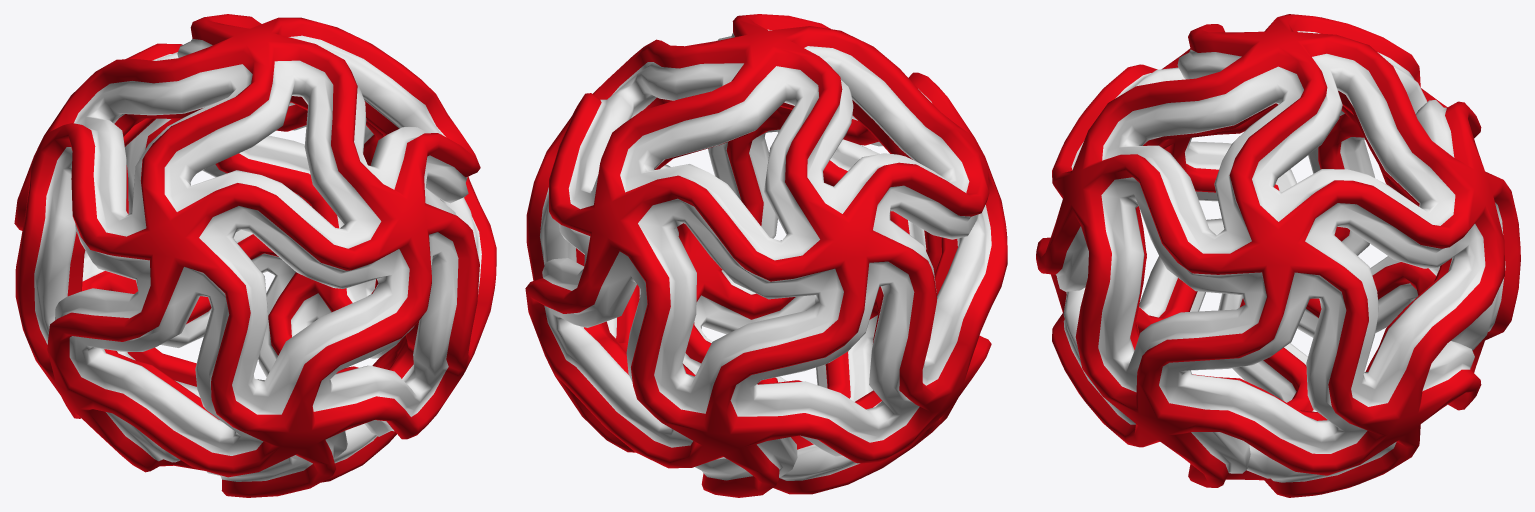
Rendered from Star Ball_new_01.fbx.
The picture shows the model from 3 angles, left to right: view 1: azimuth 30°, elevation 25°; view 2: azimuth 150°, elevation 25°; view 3: azimuth 270°, elevation 25°; orthographic projection.
Visible parts, largest first — view 1: Icosphere; view 2: Icosphere; view 3: Icosphere.
Boxes of the visible parts, x1=… form: Icosphere: x1=14, y1=14, x2=496, y2=497; Icosphere: x1=525, y1=14, x2=1007, y2=497; Icosphere: x1=1036, y1=14, x2=1520, y2=497.
Bounding box in the file's own units: 4.76 × 4.74 × 4.78.
